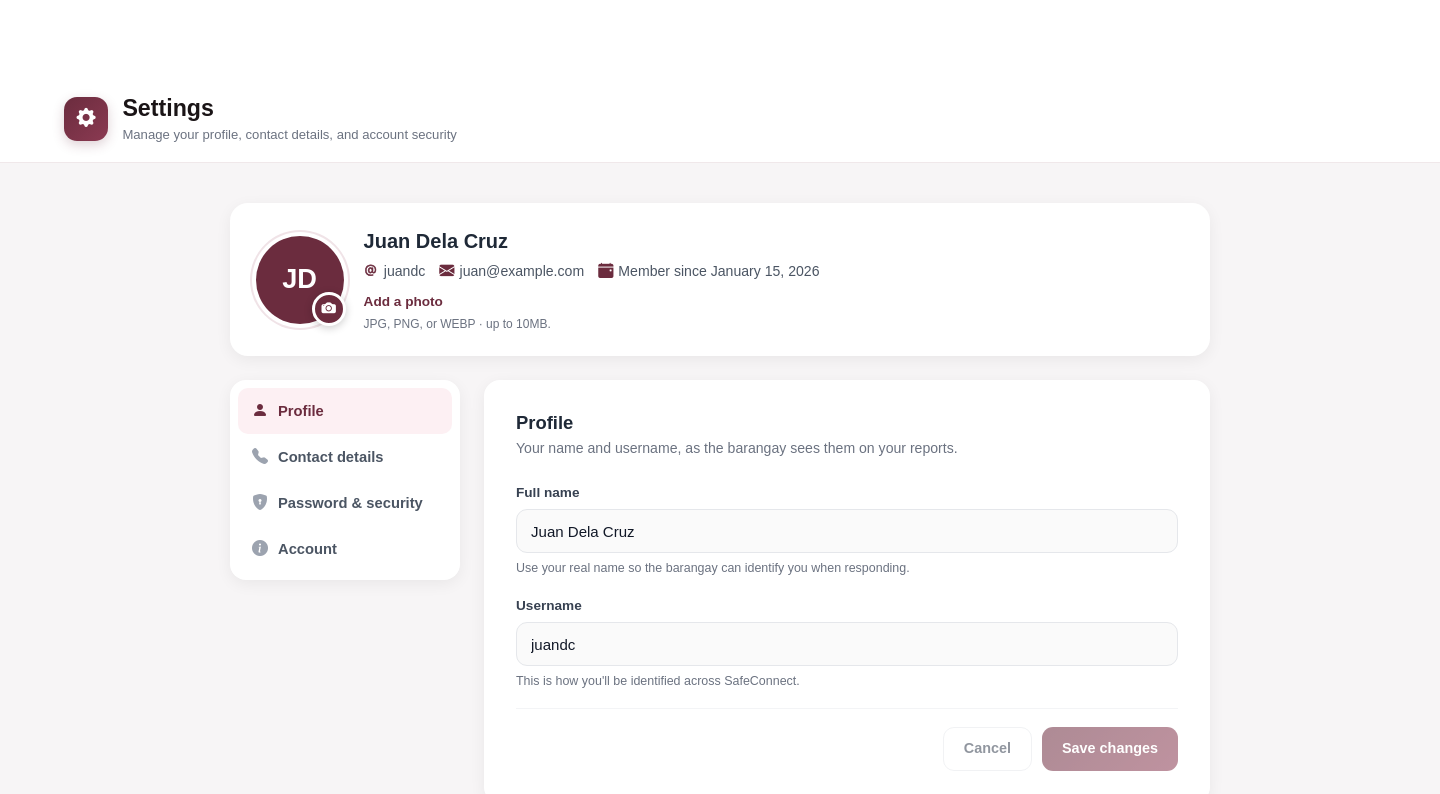
Scenario: Password › a strong password is saved and the fields are cleared
Expected: the field labelled "Full name" holds "Juan Dela Cruz", [516, 509, 1178, 553]
Click the button "Password & security": (345, 503) [238, 480, 452, 526]
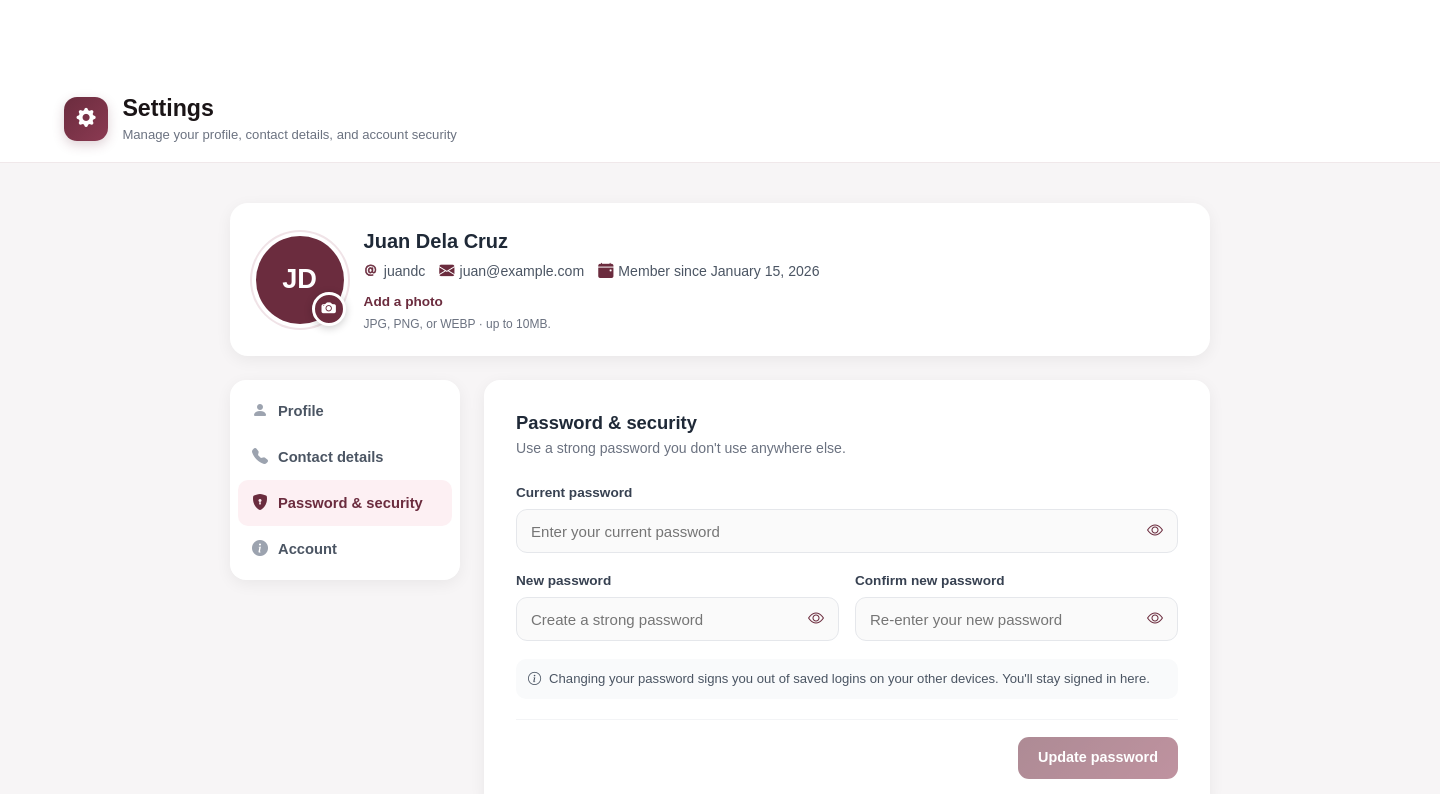
In the password field labelled "Current password": (847, 531) [516, 509, 1178, 553], type "OldPass1!"
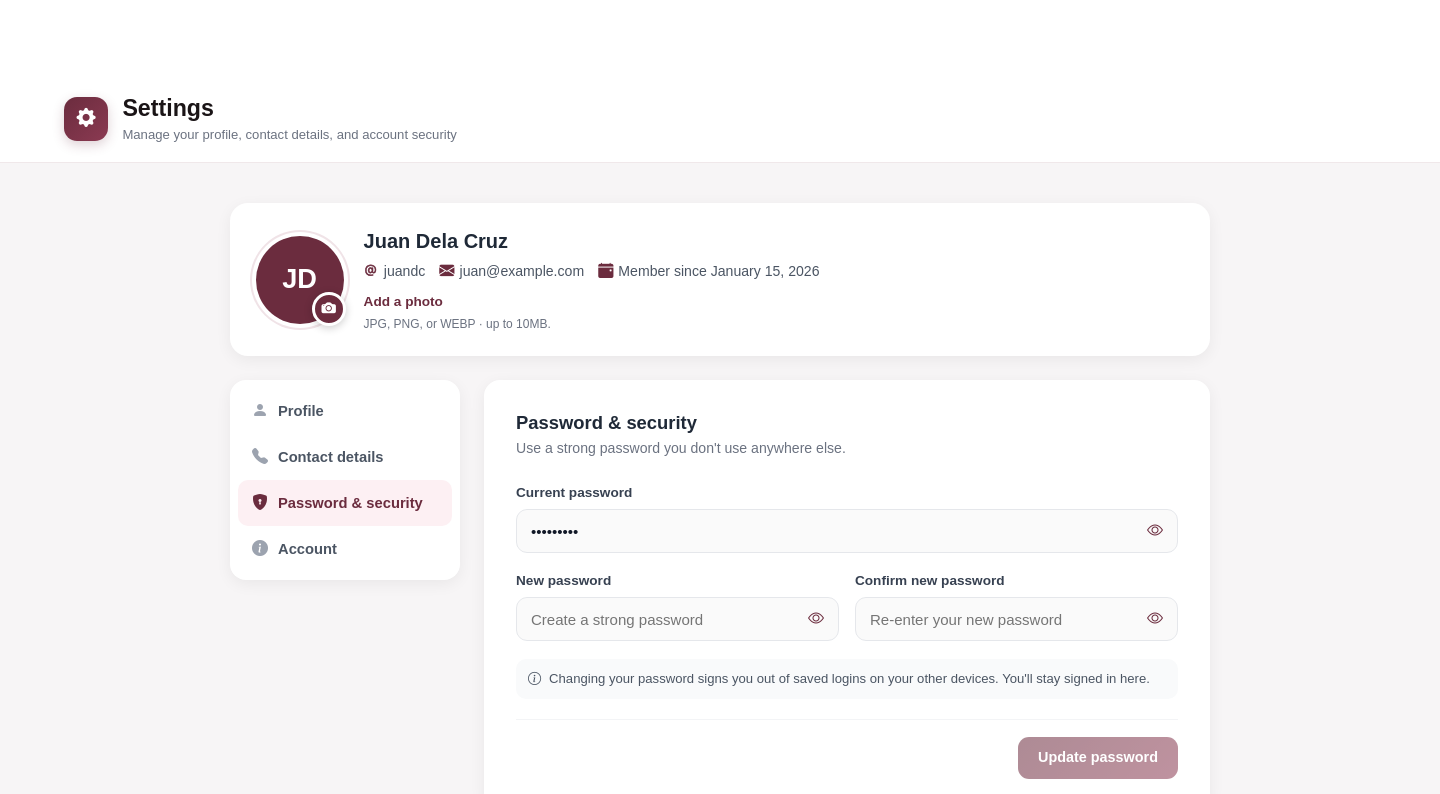
In the password field labelled "New password": (678, 619) [516, 597, 839, 641], type "NewPass2@"
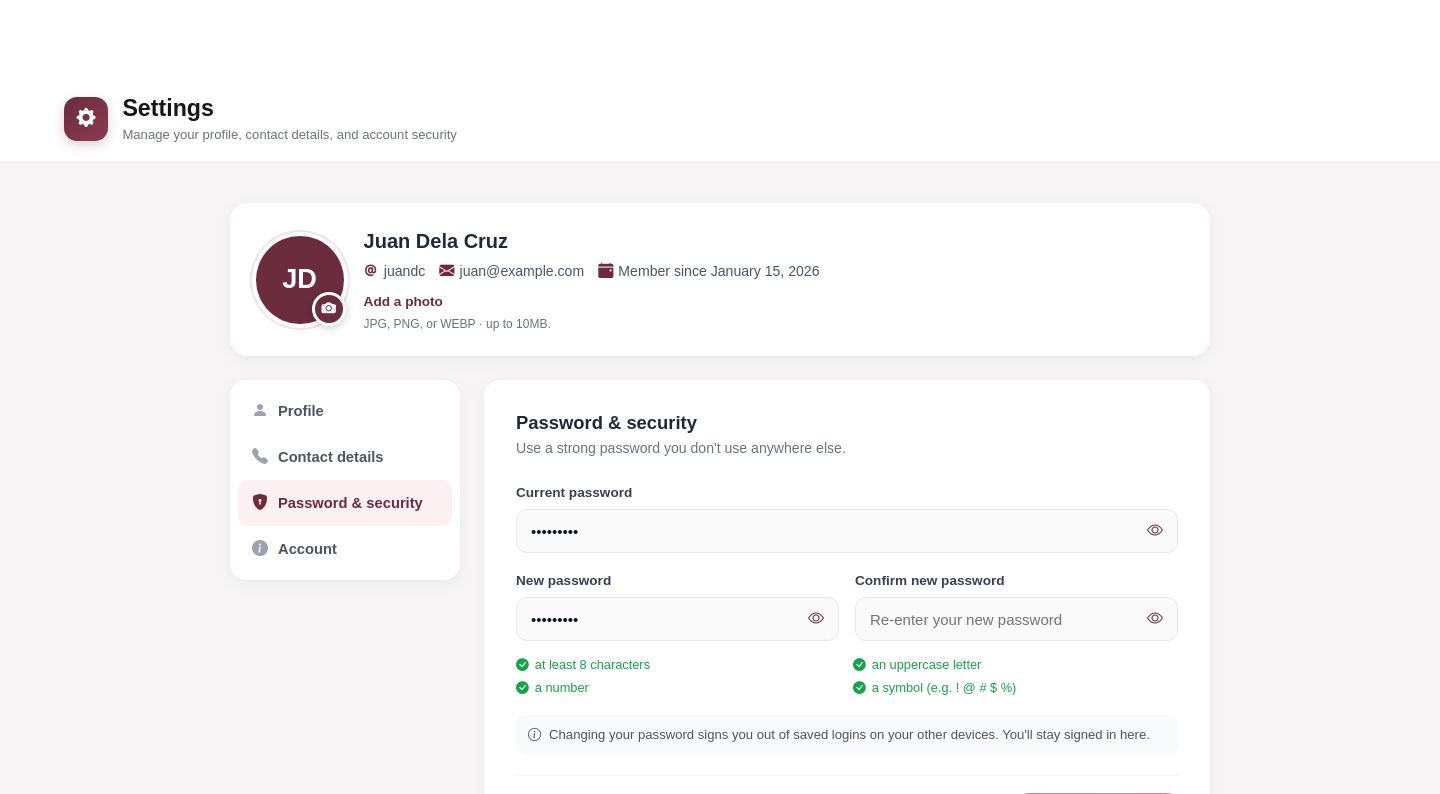
In the password field labelled "Confirm new password": (1016, 619) [855, 597, 1178, 641], type "NewPass2@"
(page scrolled)
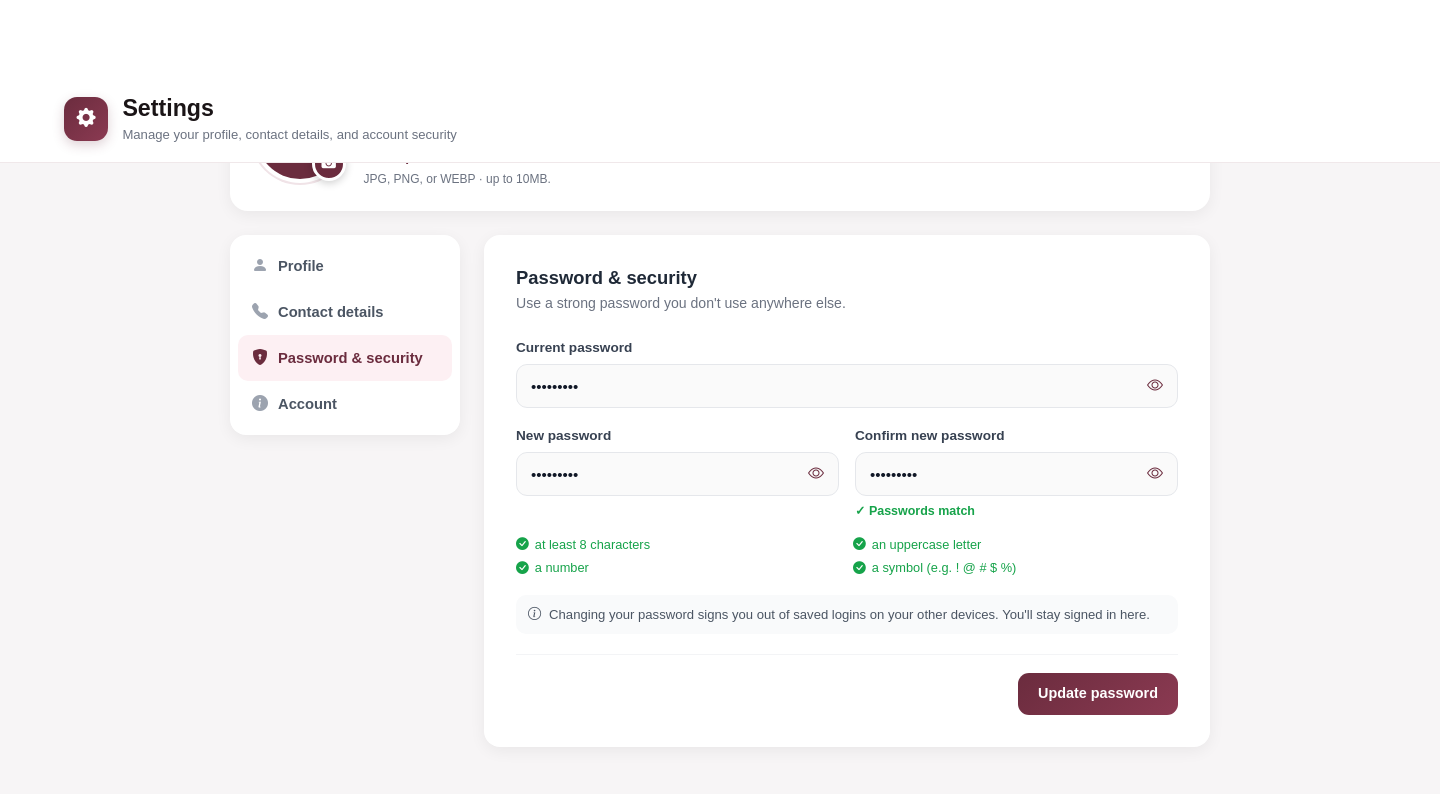
Click the button "Update password": (1098, 694) [1018, 673, 1178, 715]
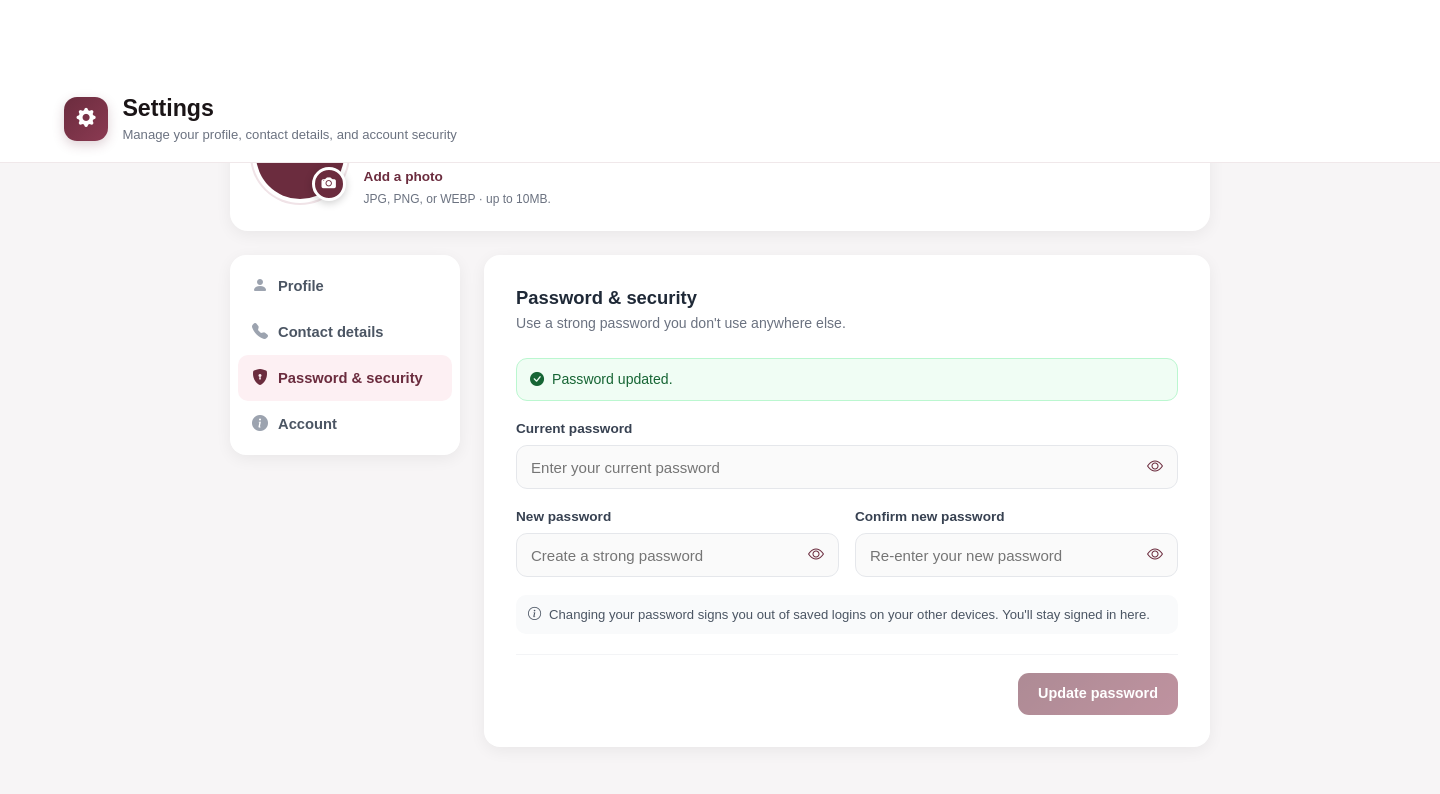
Expected: the text "Password updated." is shown, [552, 369, 673, 390]
Expected: the password field labelled "New password" is empty, [516, 533, 839, 577]
